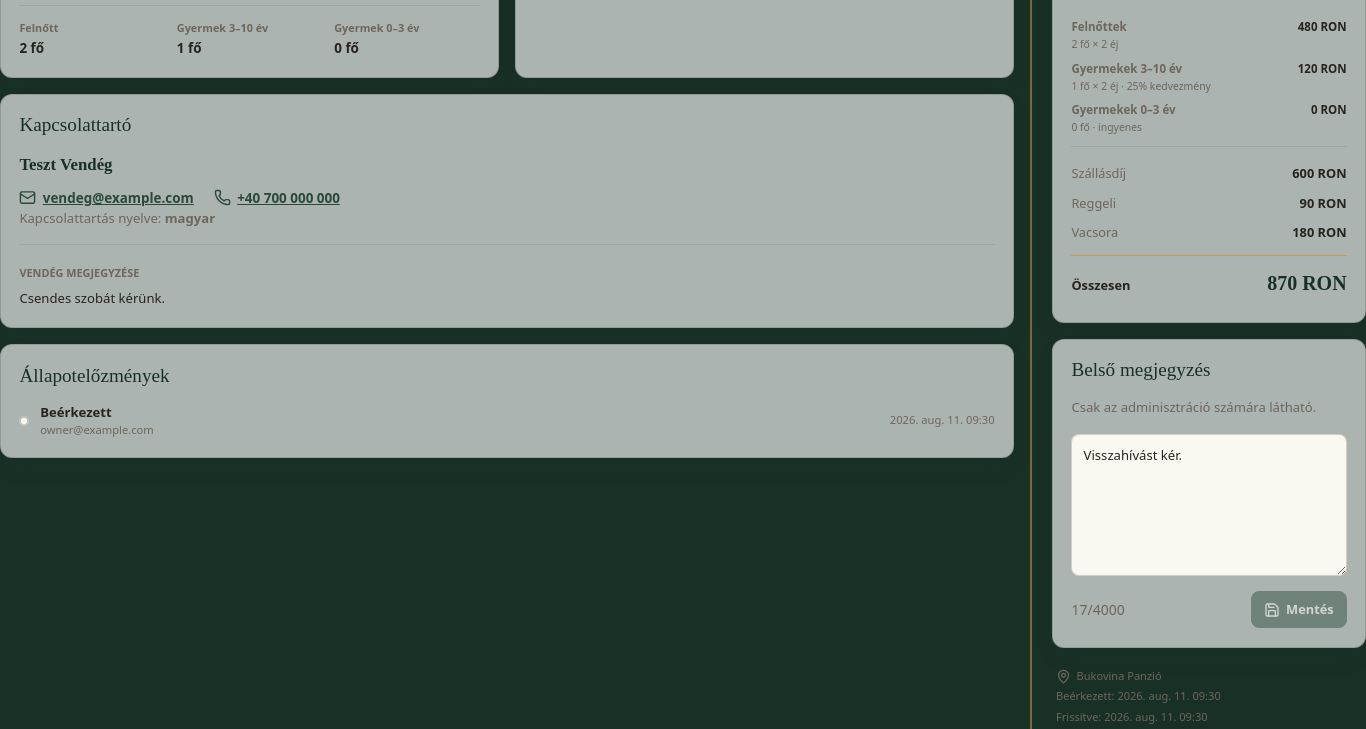
Test case: AdminBookingDetail › saves the internal note and keeps the refreshed value
This screenshot has width=1366, height=729.
(page scrolled)
Replace the text in the text box named "Belső megjegyzés" with "Egyeztetve telefonon." at (1209, 505), box [1071,434,1347,576]
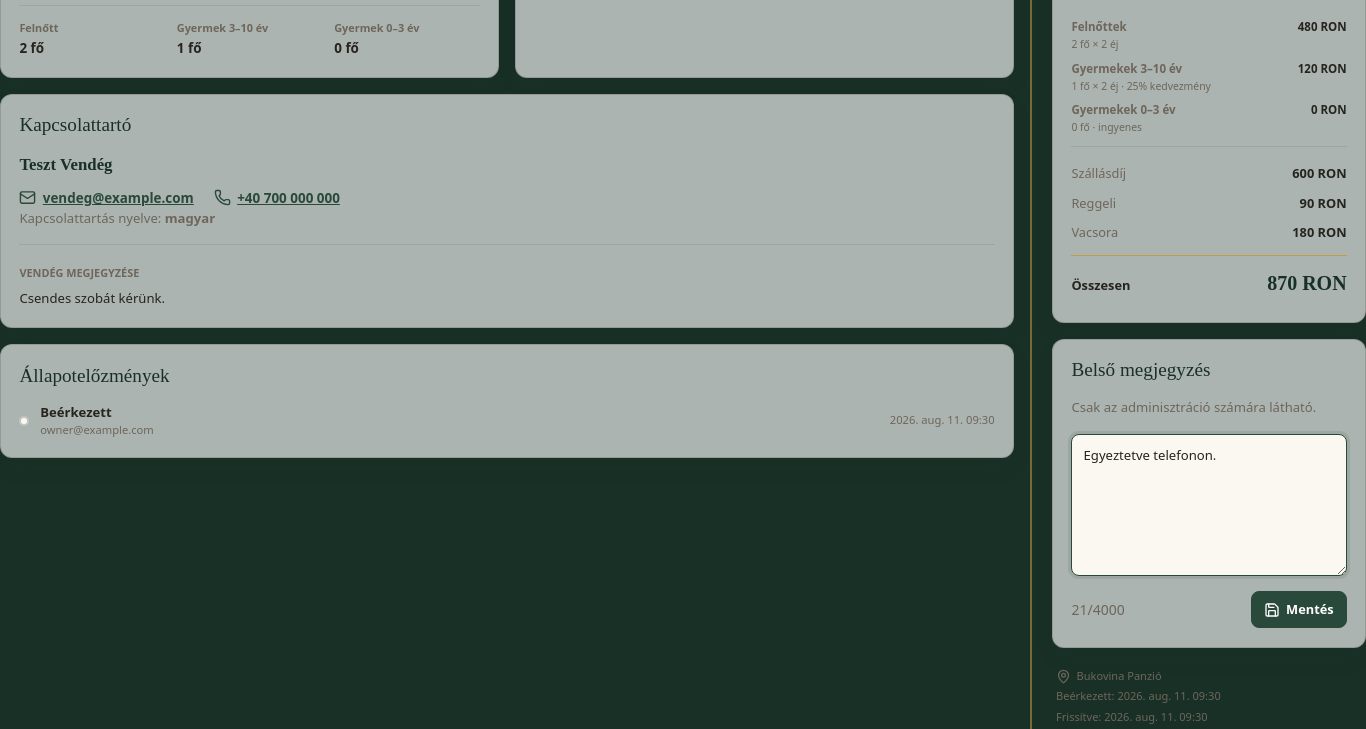
Click the button "Mentés" at (1299, 610), box [1251,591,1347,628]
(page scrolled)
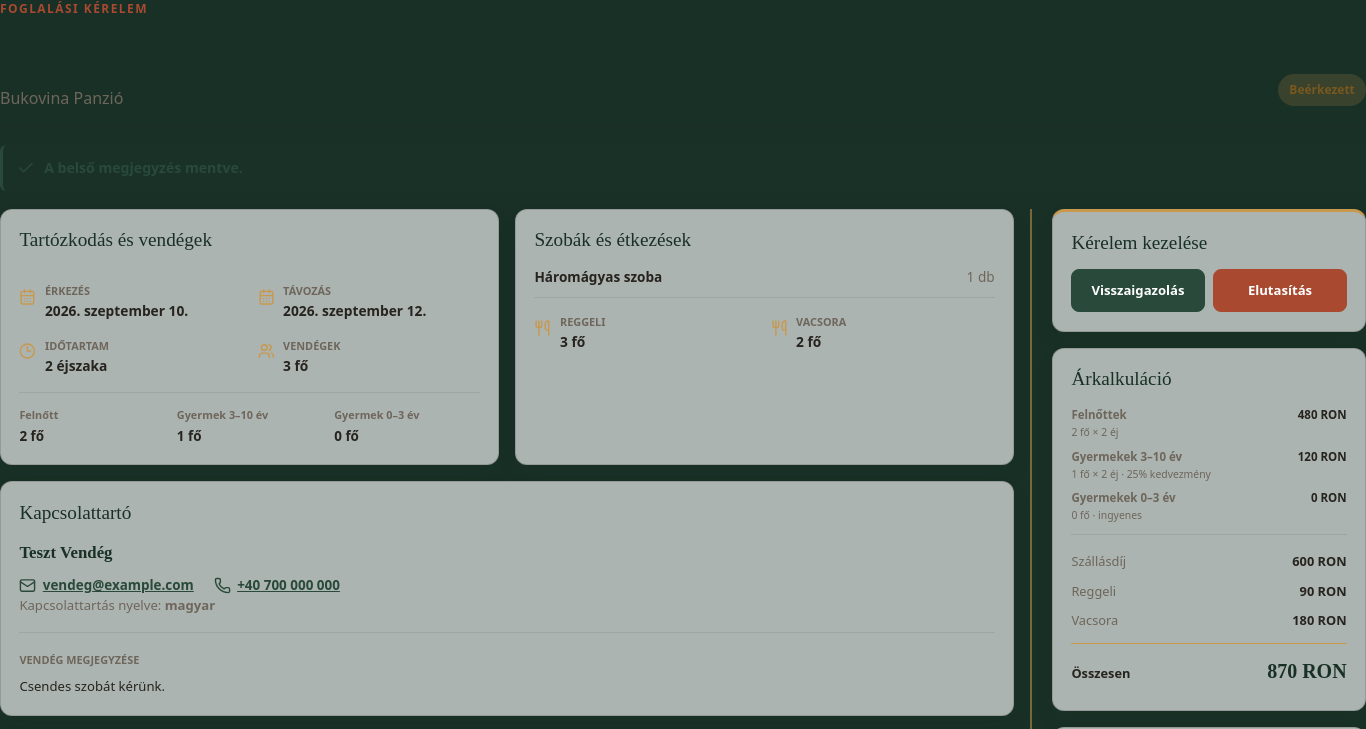
Result: the text "A belső megjegyzés mentve." is shown at [0,145,1365,190]
